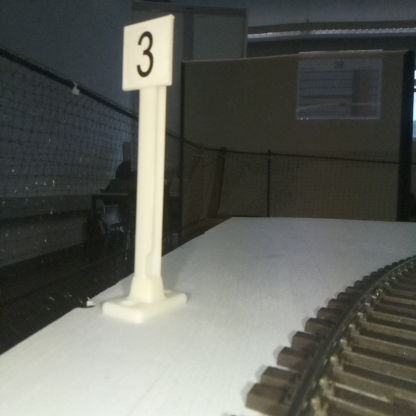white-info-3: (123, 16, 172, 316)
